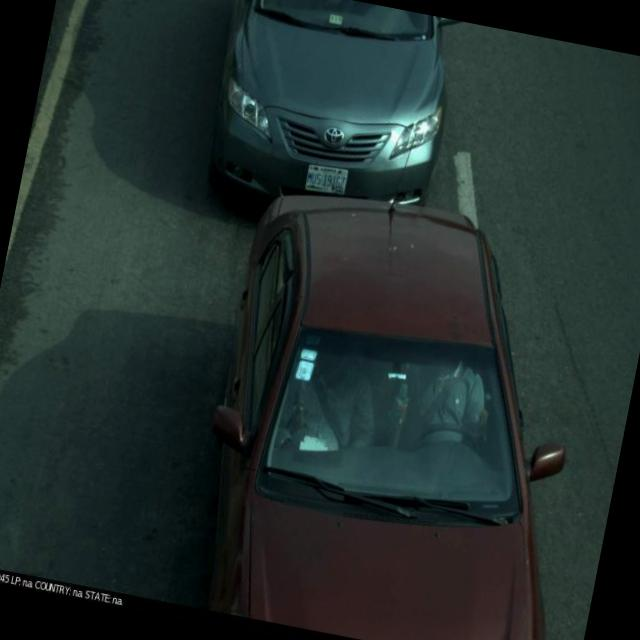person_with_seatbelt: (386, 340, 503, 486)
